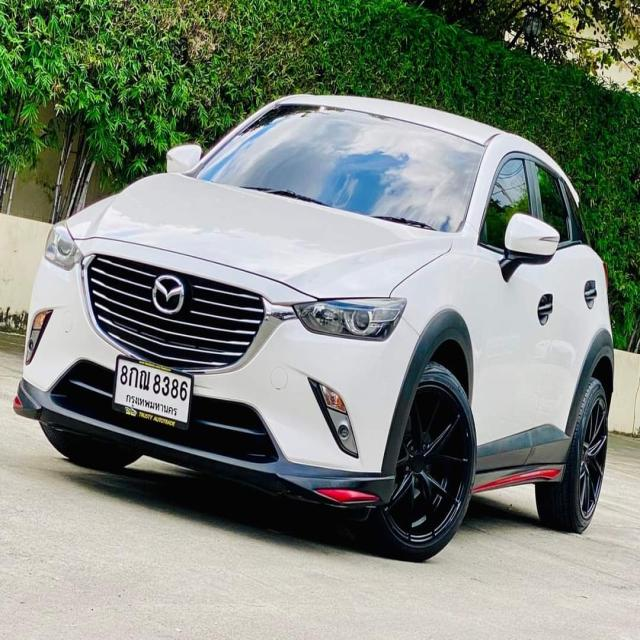license_plate: (110, 349, 196, 434)
